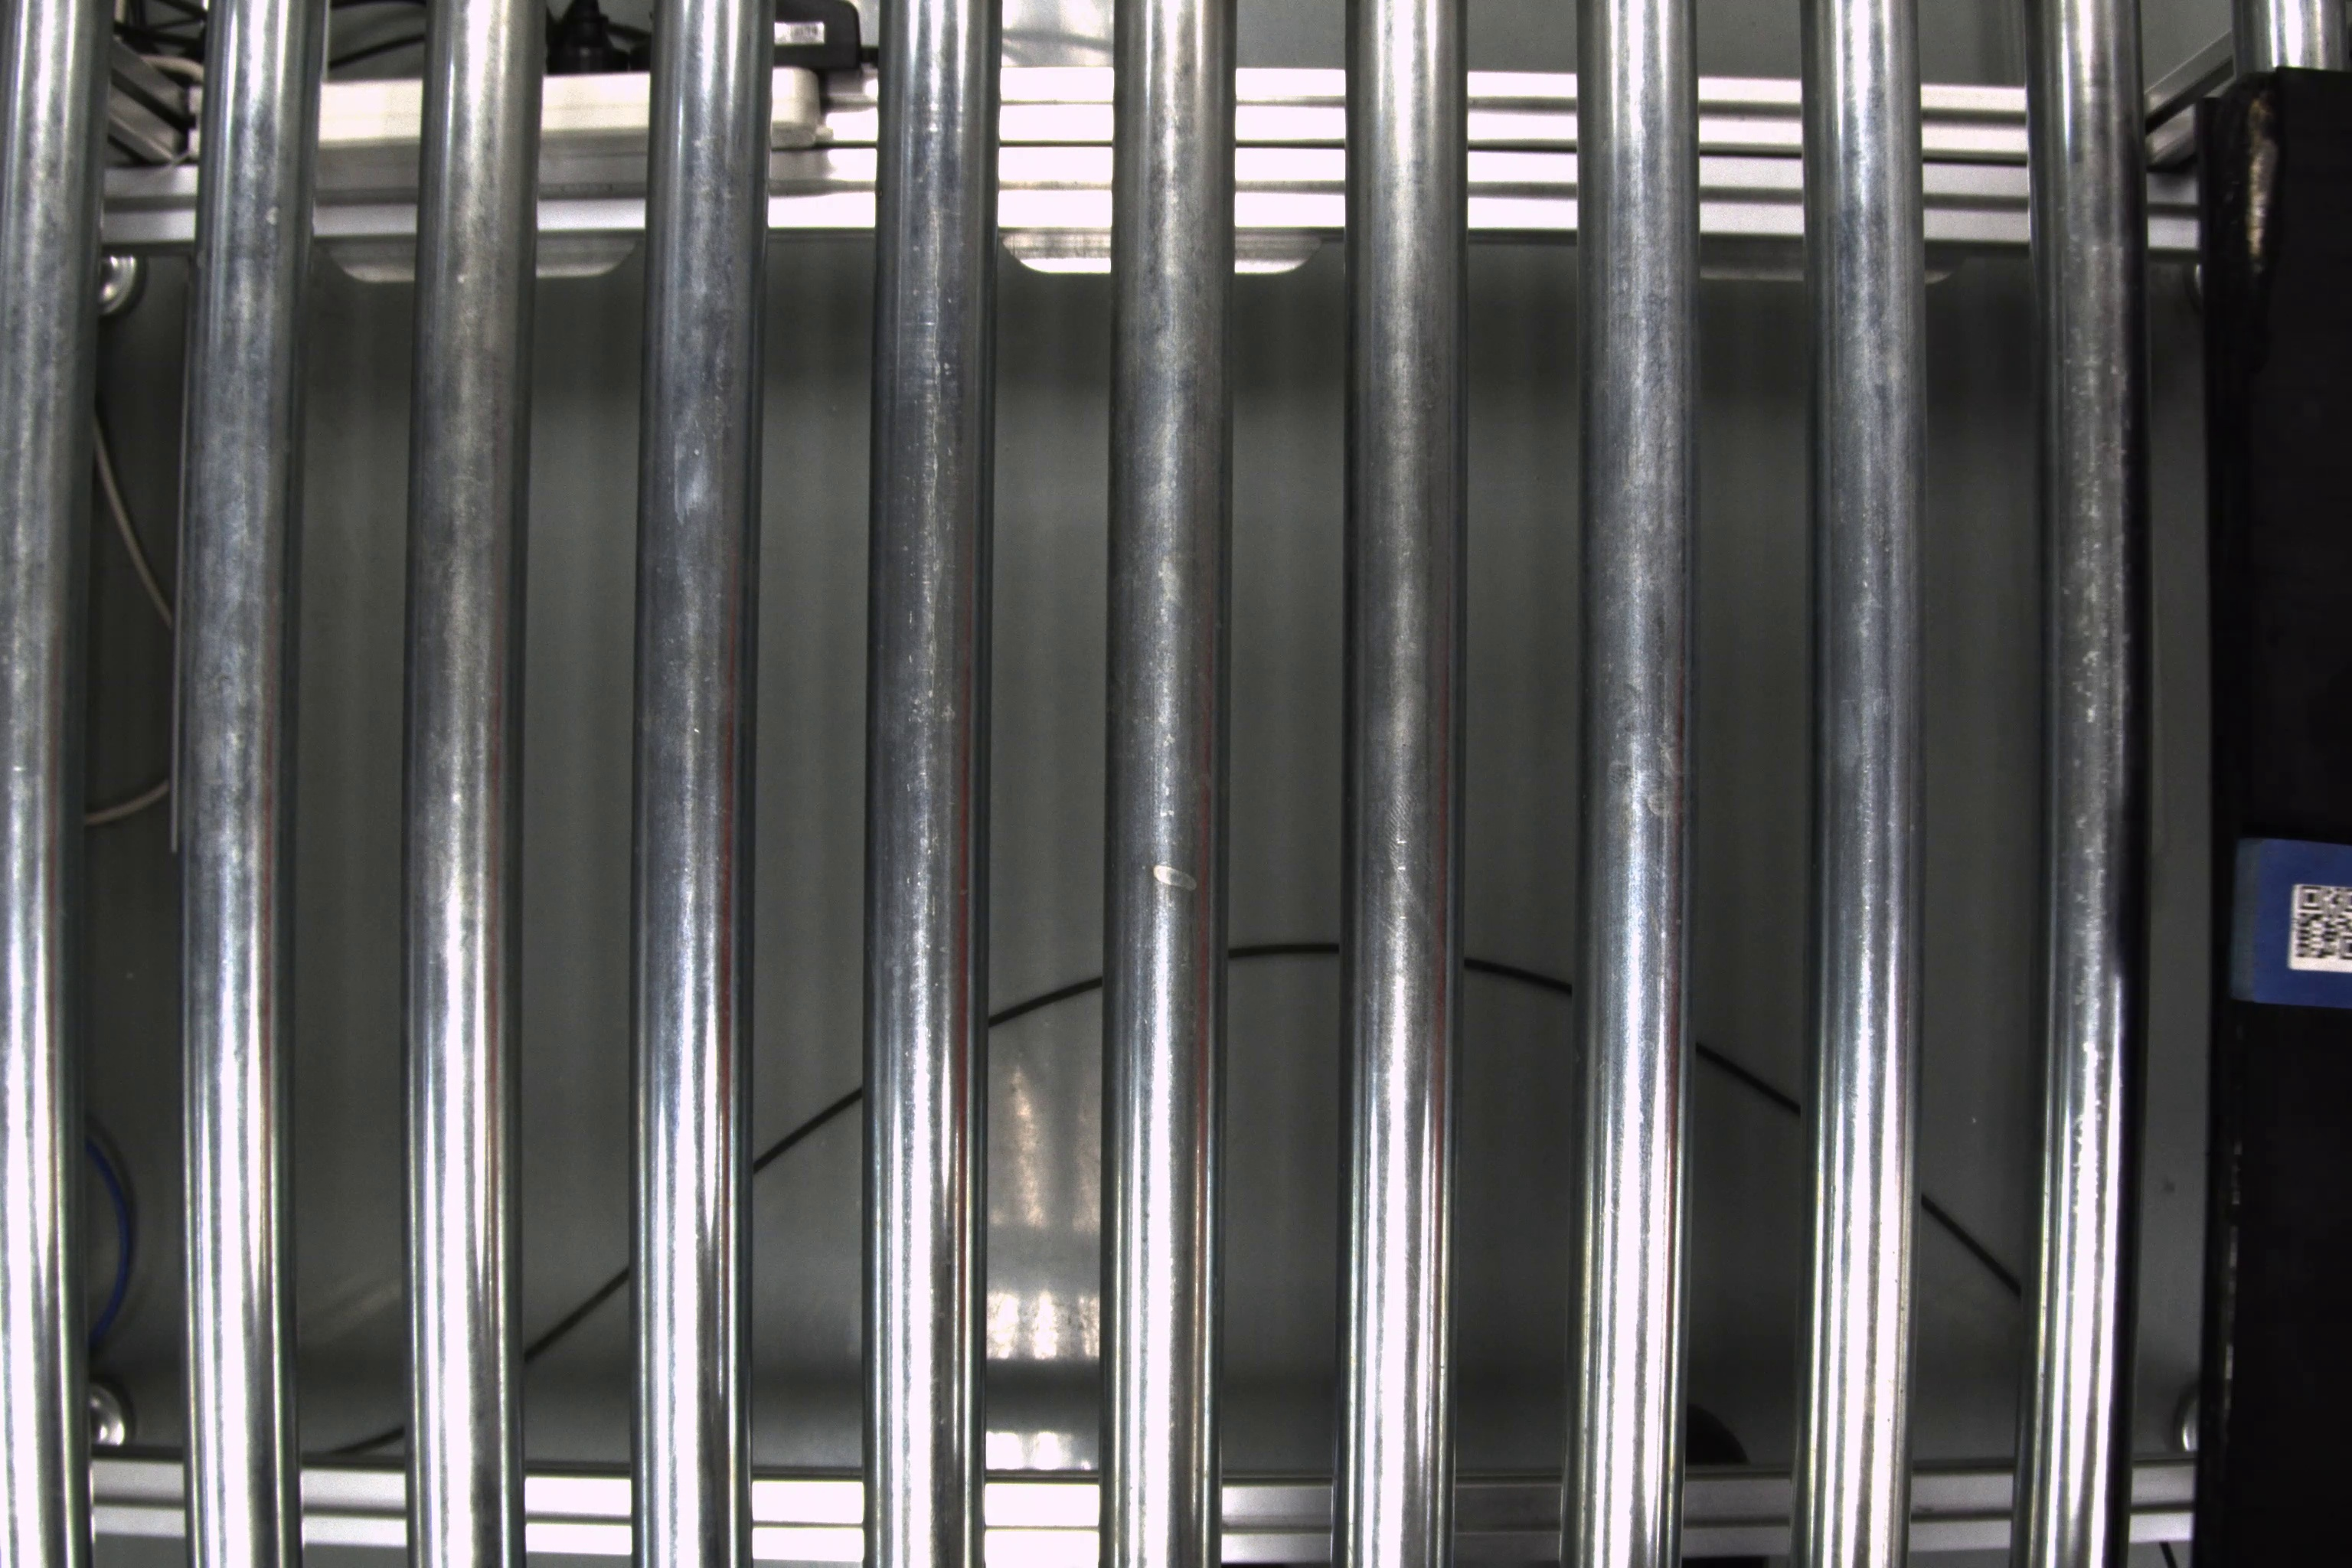wood: (2226, 829, 2348, 1017)
